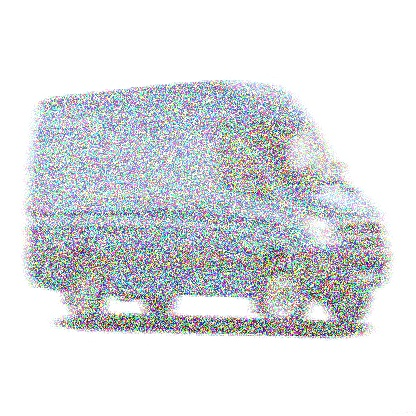Vehicle: (22, 80, 394, 336)
